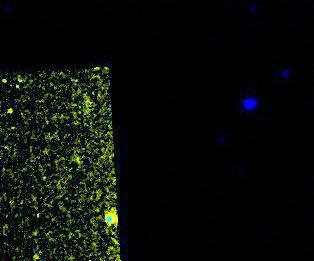star: (0, 96, 26, 126)
